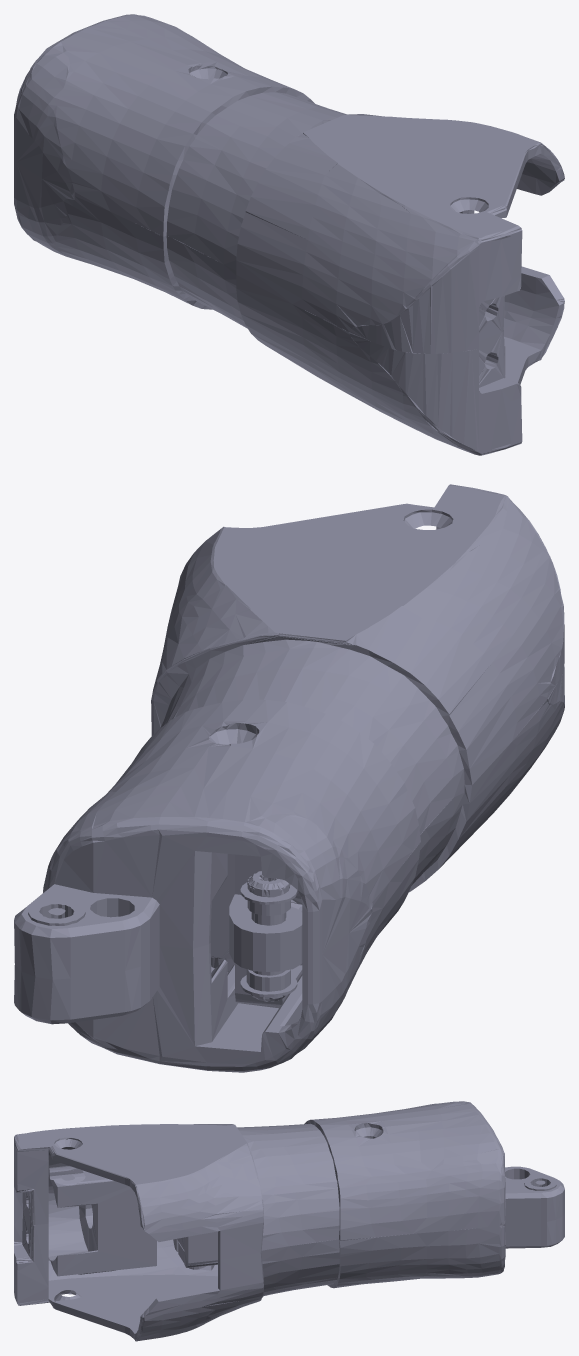
The model's file is hand2_link_1_2_visuals.obj.
3 views of the same model, one above another, from view 1: azimuth 30°, elevation 25°; view 2: azimuth 150°, elevation 25°; view 3: azimuth 270°, elevation 25° (orthographic). The views are drawn at different scales.
Bounding box in the file's own units: 0.0335 × 0.021 × 0.067.
